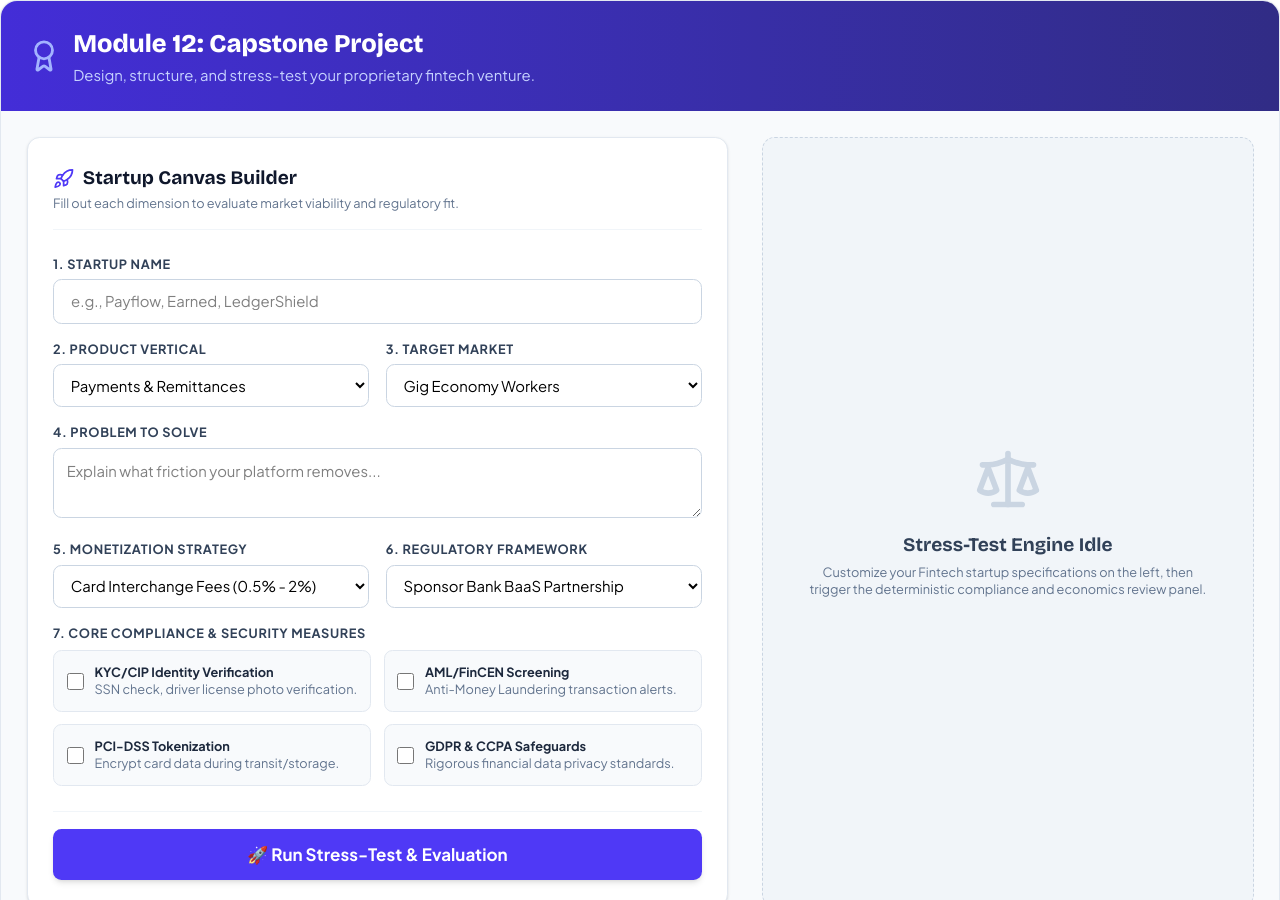
Test: CapstoneCanvas › Evaluation: Payments Vertical › scores payments + interchange as strong alignment
Type "PayFlow" into the field with placeholder "e.g., Payflow, Earned, LedgerShield".
click(377, 301); type("PayFlow")  # box [53,279,702,324]
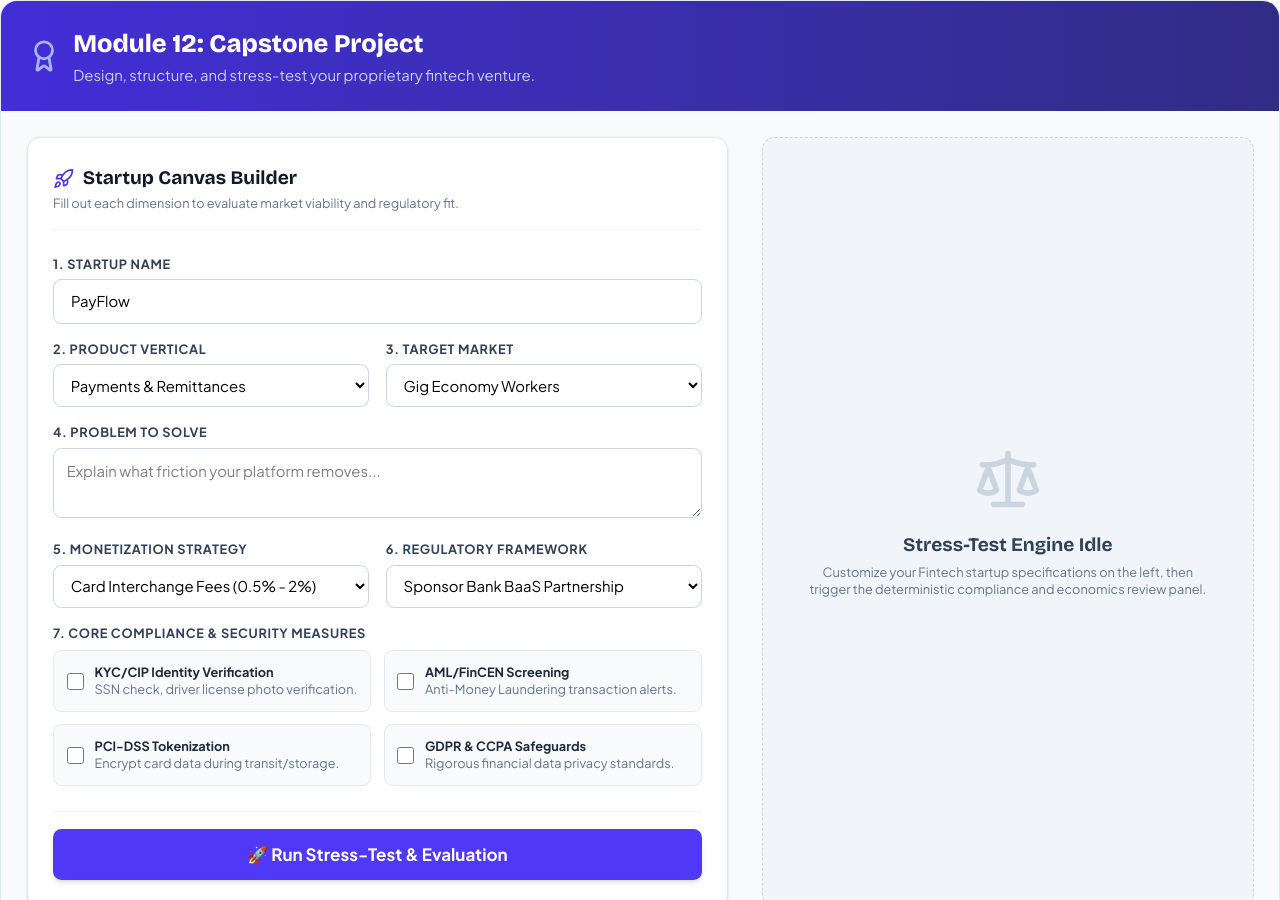
Click the button "🚀 Run Stress-Test & Evaluation".
click(377, 855)  # box [53,830,702,880]
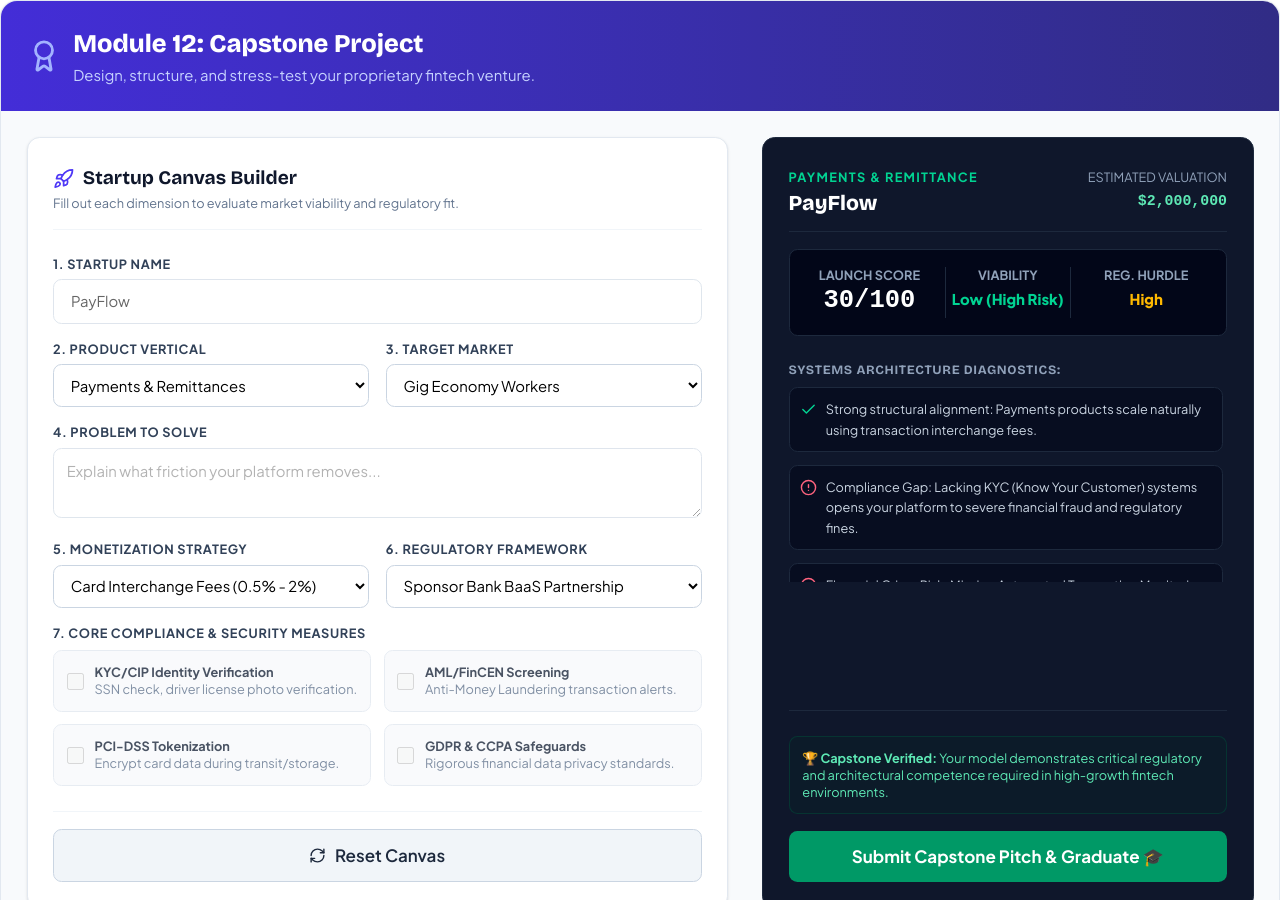
Result: the text "Strong structural alignment" is shown at [826,401,1201,438]
